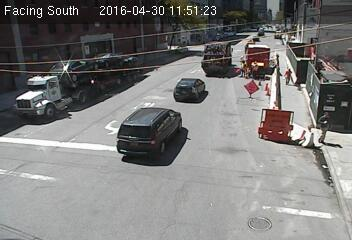neg: (154, 36, 169, 56), (264, 32, 279, 52), (177, 36, 191, 55), (289, 27, 303, 46), (205, 27, 217, 41), (234, 24, 242, 35)
pos: (281, 65, 297, 86)
